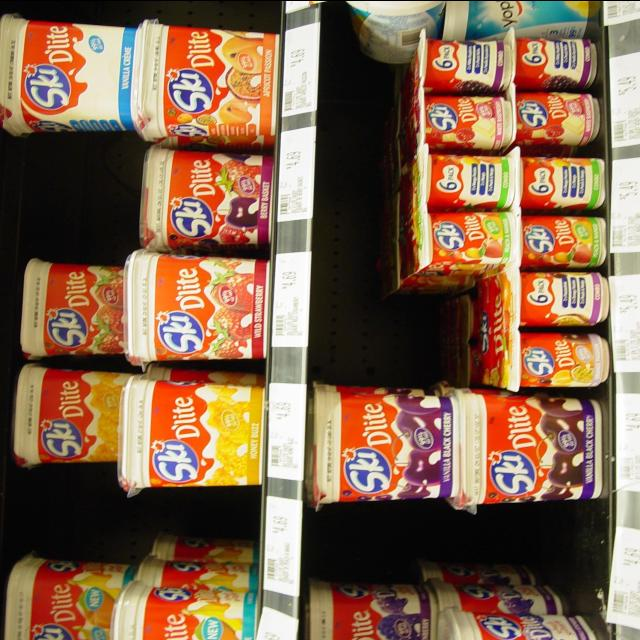empty_space: (327, 511, 592, 581), (14, 139, 125, 239), (358, 295, 486, 376), (31, 495, 249, 542)
